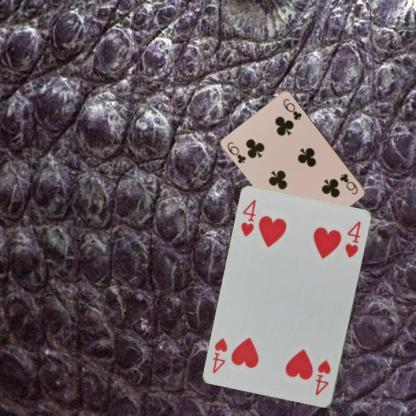4h: (238, 197, 258, 238), (312, 357, 332, 397)
6c: (224, 140, 247, 164), (338, 171, 360, 196)
